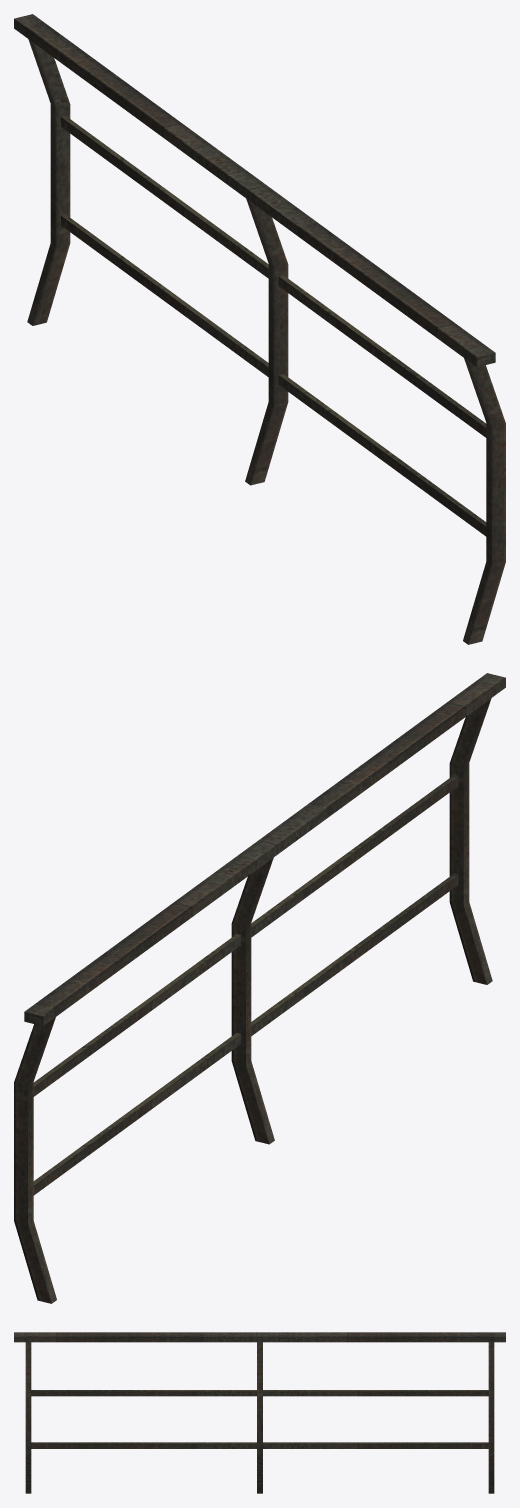
File: platform_b_handrail_2.fbx
The picture shows the model from 3 angles, top to bottom: view 1: azimuth 30°, elevation 25°; view 2: azimuth 150°, elevation 25°; view 3: azimuth 270°, elevation 25°; orthographic projection. The views are drawn at different scales.
Visible parts, largest first — view 1: platform_b_handrail_2; view 2: platform_b_handrail_2; view 3: platform_b_handrail_2.
Part boxes in pixels (x1,y1,x2,y2): platform_b_handrail_2: (14,14,505,644); platform_b_handrail_2: (14,673,505,1303); platform_b_handrail_2: (14,1332,505,1493).
Bounding box in the file's own units: 0.17 × 3.4 × 1.2.
